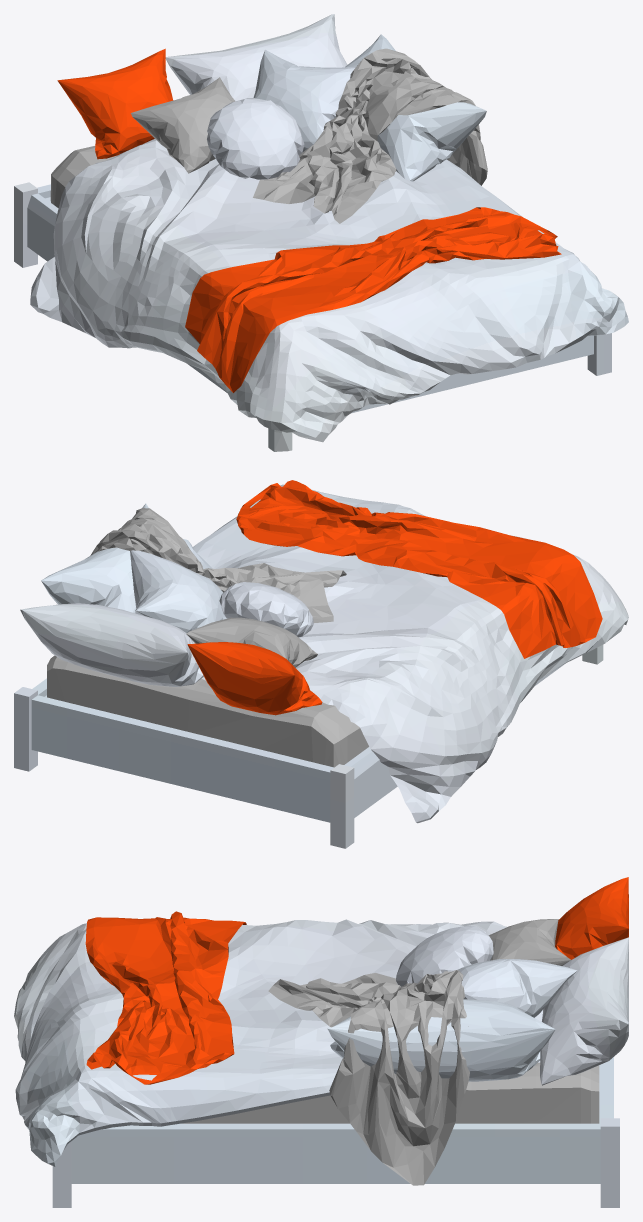
Rendered from bed.fbx.
3 views of the same model, one above another, from view 1: azimuth 30°, elevation 25°; view 2: azimuth 150°, elevation 25°; view 3: azimuth 270°, elevation 25° (orthographic). The views are drawn at different scales.
Visible parts, largest first — view 1: SM_Apartment_Bed_01.mo; view 2: SM_Apartment_Bed_01.mo; view 3: SM_Apartment_Bed_01.mo.
Part boxes in pixels (x1,y1,x2,y2): SM_Apartment_Bed_01.mo: (14, 14, 628, 451); SM_Apartment_Bed_01.mo: (14, 480, 628, 848); SM_Apartment_Bed_01.mo: (14, 877, 628, 1207).
Bounding box in the file's own units: 170 × 83.52 × 217.
